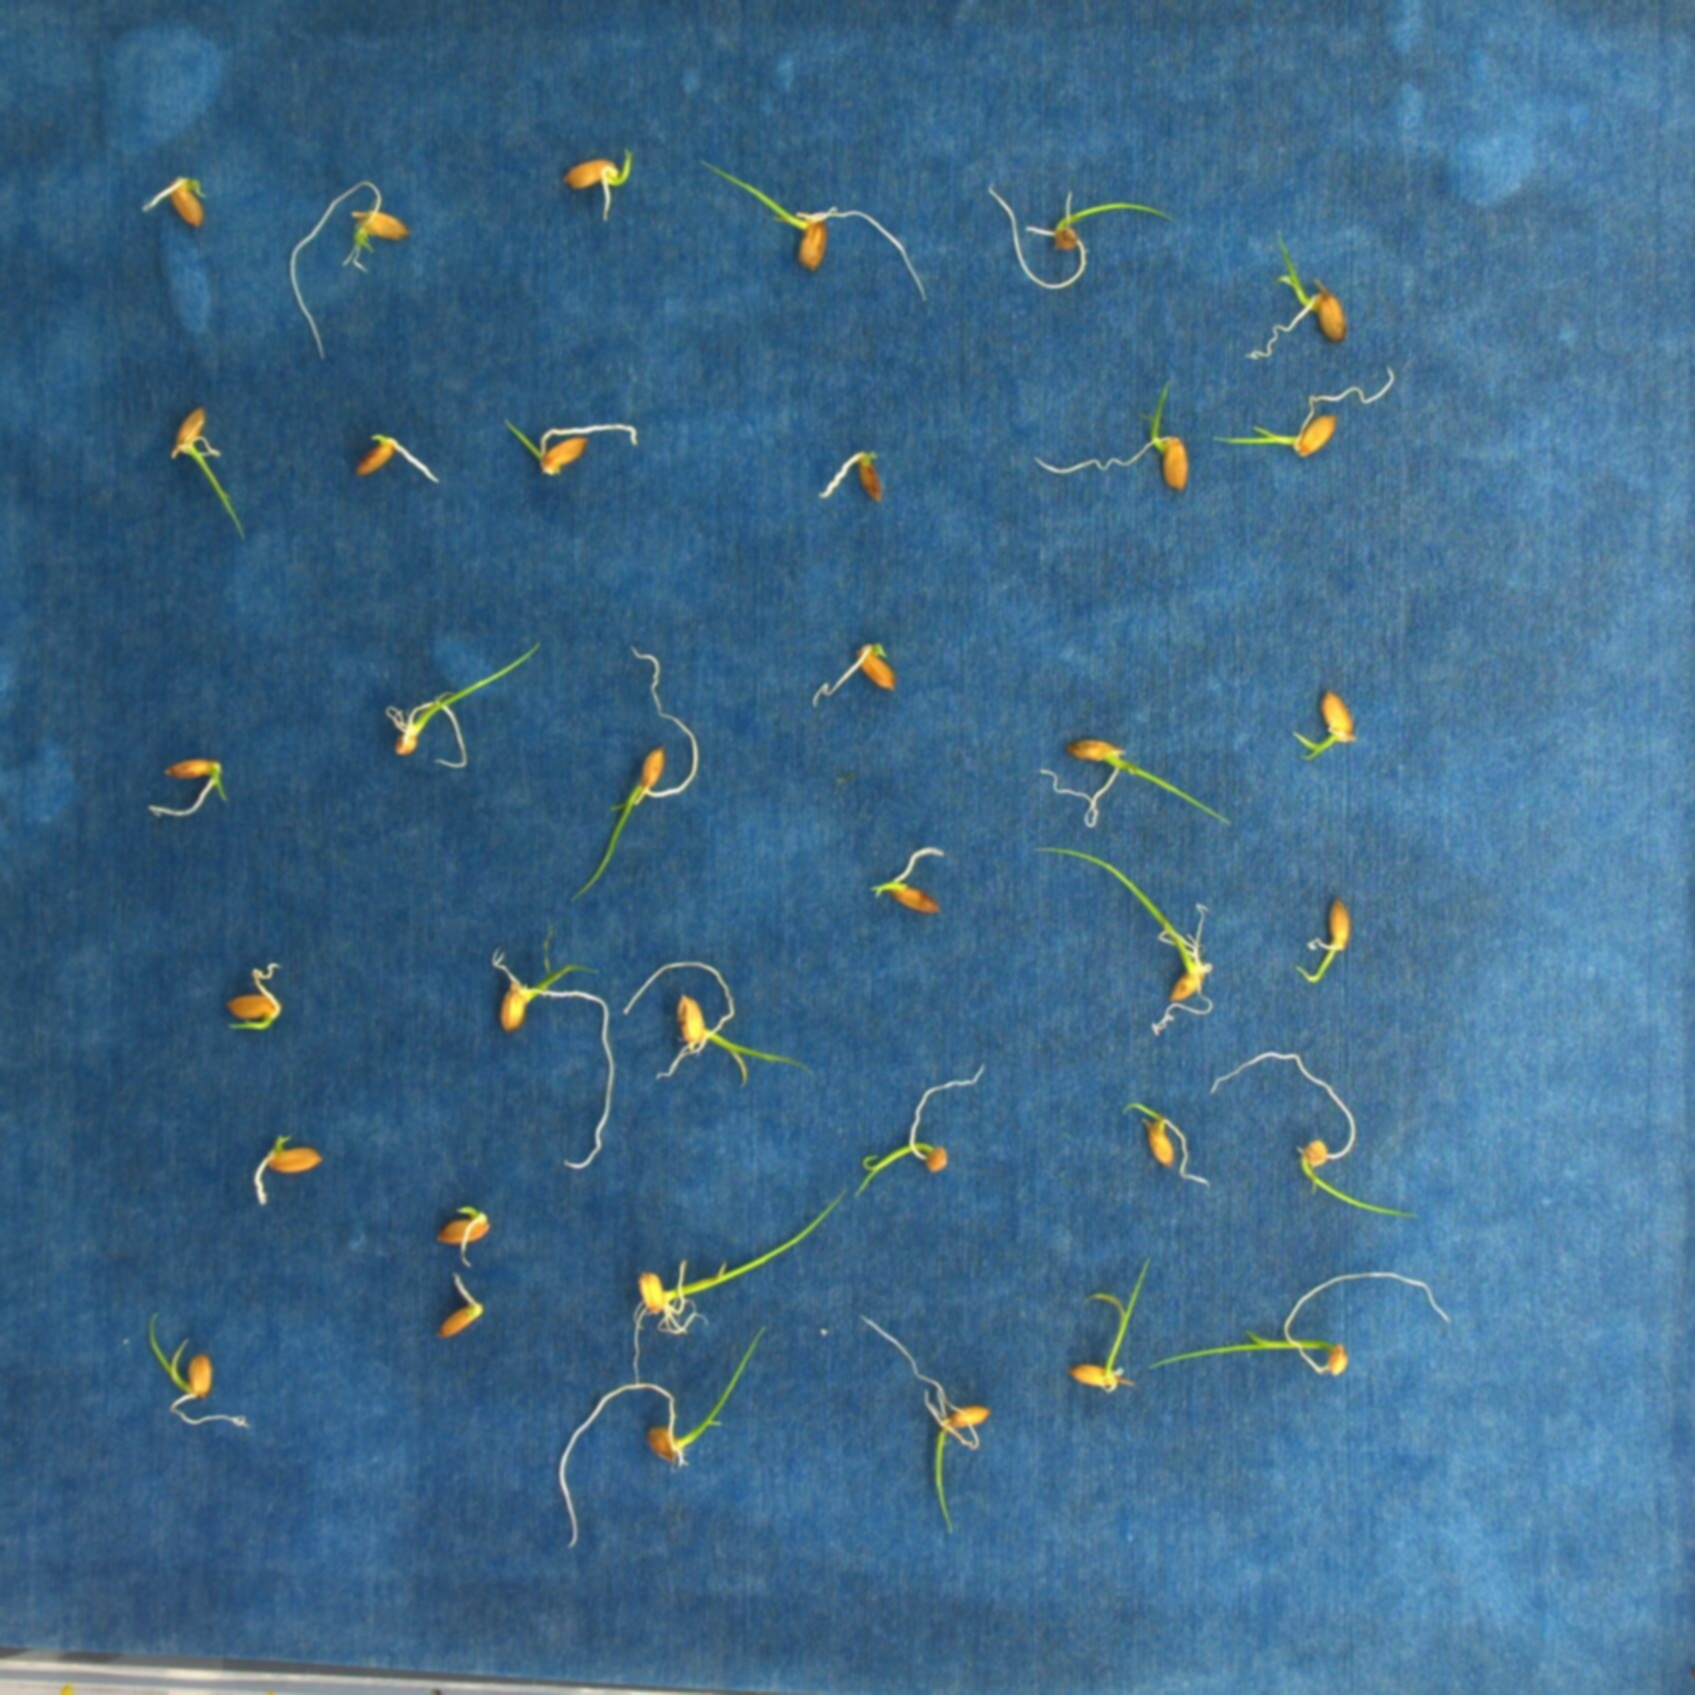not sprout: (807, 633, 914, 706), (248, 1122, 321, 1211), (869, 838, 947, 920), (144, 750, 230, 823), (352, 425, 445, 489), (816, 442, 891, 509), (432, 1270, 489, 1346), (433, 1201, 494, 1267)
sprout: (557, 1330, 770, 1543), (626, 1187, 854, 1378), (691, 154, 930, 307), (1031, 840, 1217, 1034), (1211, 1046, 1412, 1225), (571, 646, 705, 899), (1152, 1267, 1451, 1378), (489, 919, 610, 1173), (857, 1312, 993, 1535), (626, 958, 816, 1090), (287, 174, 410, 362), (382, 638, 539, 778), (983, 179, 1173, 290), (1031, 373, 1191, 498), (1038, 730, 1232, 827), (1211, 366, 1399, 458), (857, 1057, 983, 1194), (1243, 230, 1347, 369), (146, 1312, 259, 1437), (163, 402, 251, 549), (1063, 1257, 1147, 1397), (498, 414, 643, 477), (1121, 1097, 1214, 1194), (1291, 893, 1366, 990), (224, 951, 287, 1042), (559, 147, 636, 220), (1290, 685, 1361, 764), (141, 171, 214, 237)
